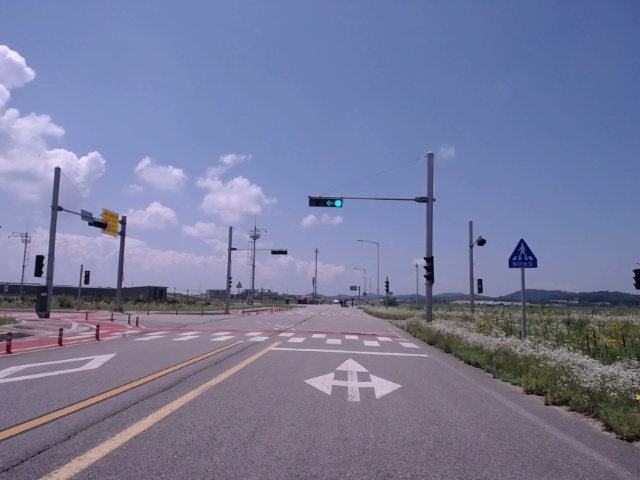all_green_4: (310, 195, 344, 207)
